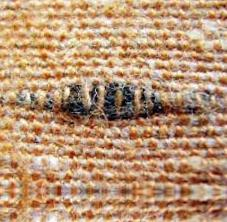slub: (1, 78, 225, 124)
